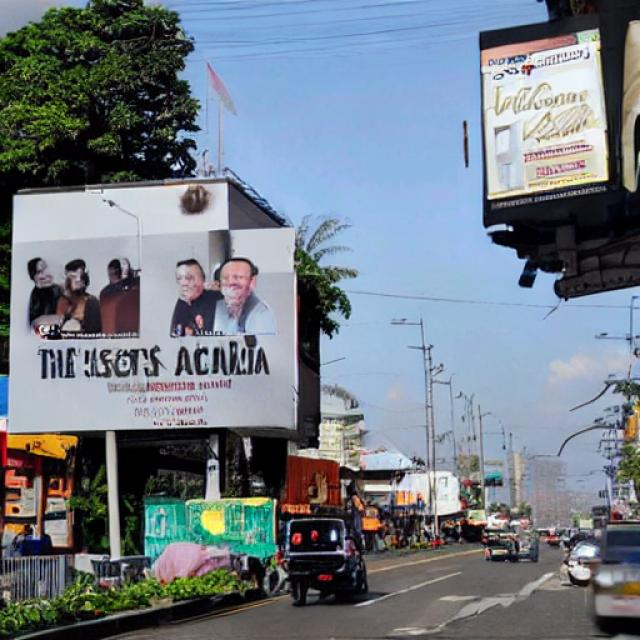Billboard: (7, 225, 306, 438)
